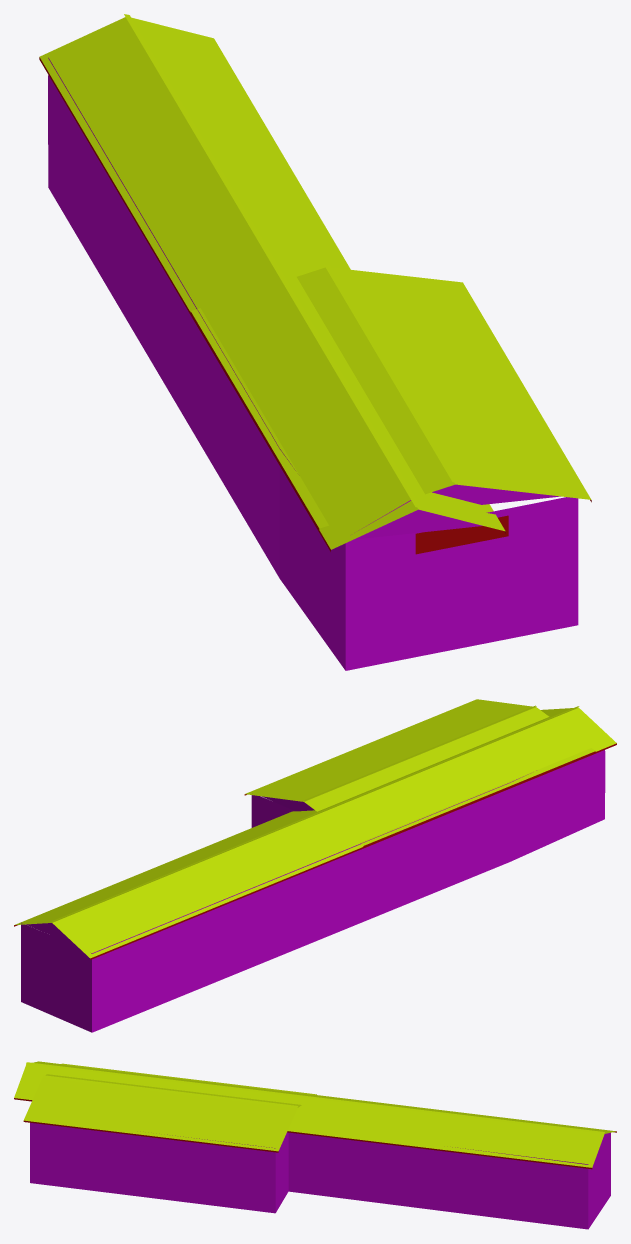
File: bgj_331.glb
3 renders of one model, top to bottom at view 1: azimuth 30°, elevation 25°; view 2: azimuth 150°, elevation 25°; view 3: azimuth 270°, elevation 25°, orthographic. The views are drawn at different scales.
Visible parts, largest first — view 1: bgj_331; view 2: bgj_331; view 3: bgj_331.
Boxes of the visible parts, x1,y1,x2,y2 form: bgj_331: (39, 14, 591, 670); bgj_331: (14, 699, 616, 1032); bgj_331: (14, 1061, 616, 1229).
Size of the model in its own units: 19.85 by 6.99 by 47.51.
